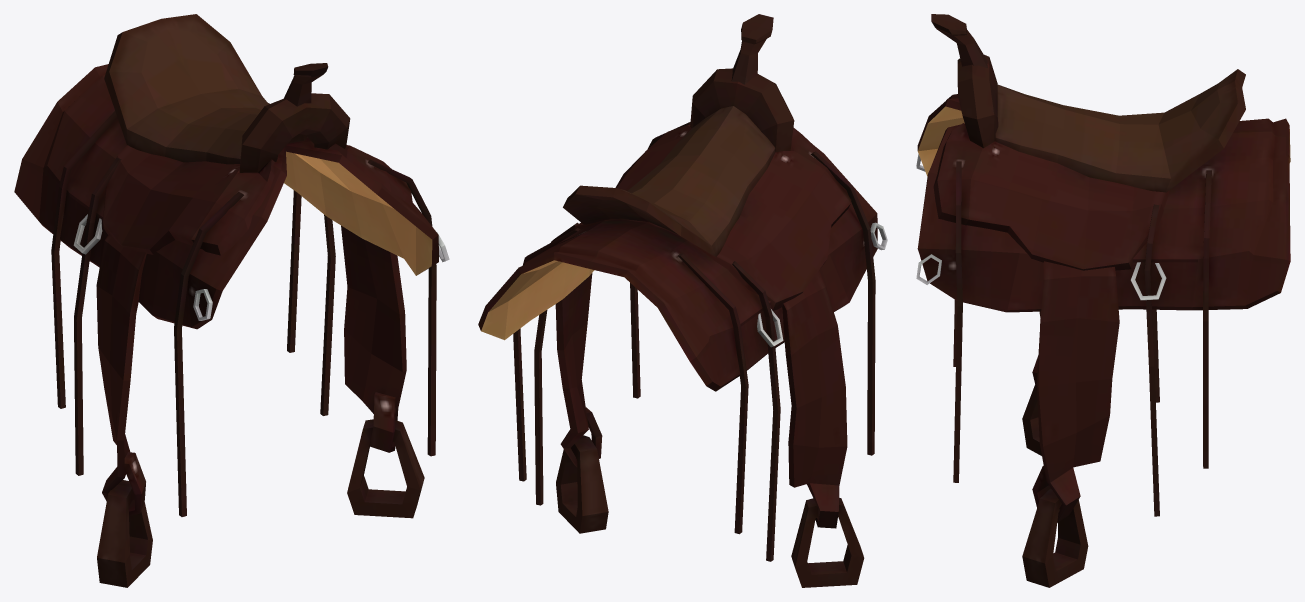
File: objects-saddle-263.glb
3 views of the same model, side by side, from view 1: azimuth 30°, elevation 25°; view 2: azimuth 150°, elevation 25°; view 3: azimuth 270°, elevation 25° (orthographic). The views are drawn at different scales.
Parts seen in each view (by area): view 1: Saddle_Mesh; view 2: Saddle_Mesh; view 3: Saddle_Mesh.
Part boxes in pixels (<box>): Saddle_Mesh: <box>14,14,449,587</box>; Saddle_Mesh: <box>478,14,887,587</box>; Saddle_Mesh: <box>916,14,1290,587</box>.
Size of the model in its own units: 2.42 by 3.67 by 2.51.
Materials: 1 (1 with a texture image).
